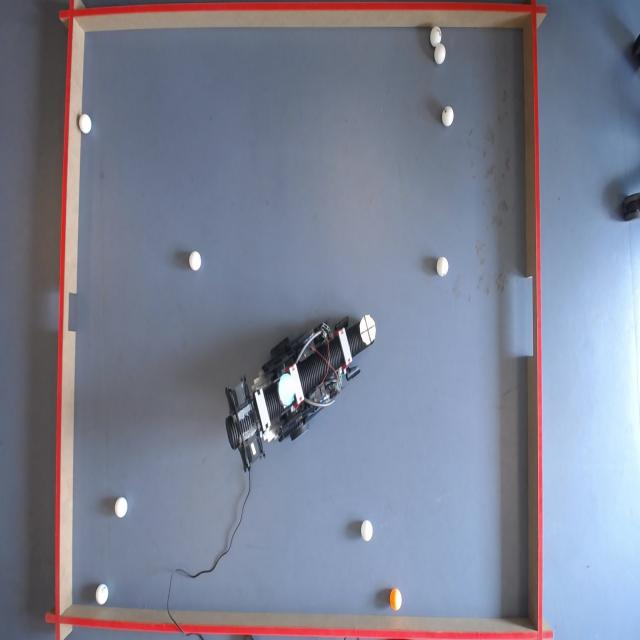orange: (390, 589, 403, 612)
robot: (220, 312, 383, 466)
robot-front: (360, 313, 378, 344)
robot-rear: (277, 372, 296, 408)
white: (114, 496, 128, 520), (96, 584, 110, 607), (360, 521, 374, 542), (79, 112, 92, 134), (188, 253, 201, 273), (429, 28, 442, 47), (444, 107, 456, 127), (439, 257, 451, 276), (436, 45, 448, 64)
